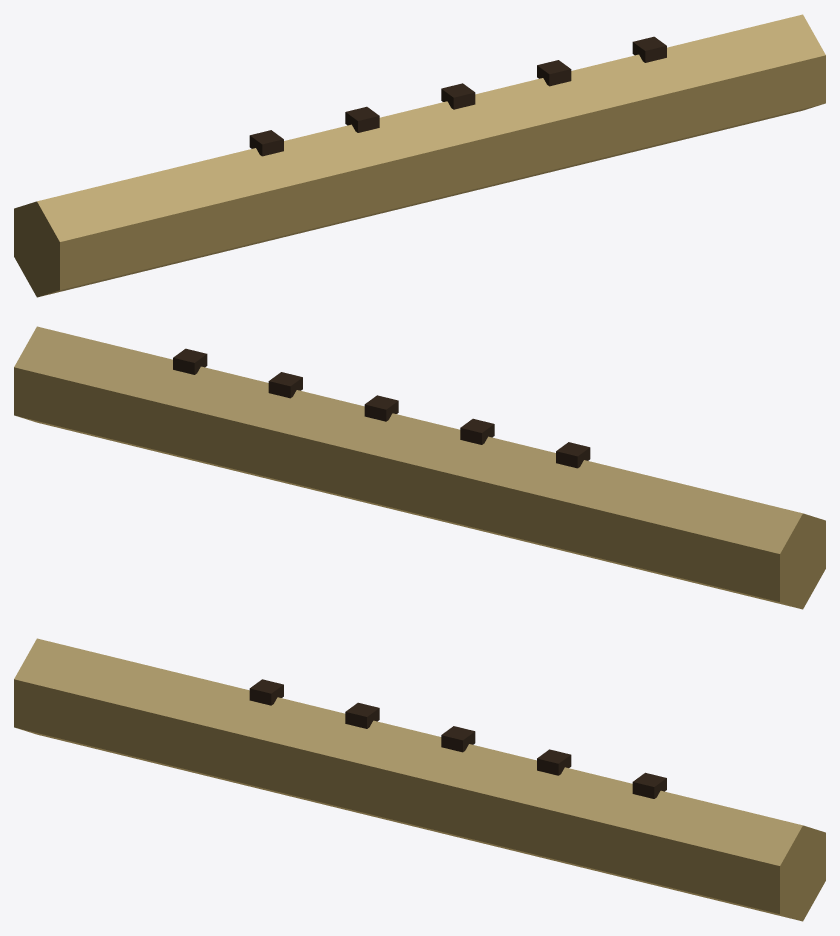
File: flute.glb
3 renders of one model, top to bottom at view 1: azimuth 30°, elevation 25°; view 2: azimuth 150°, elevation 25°; view 3: azimuth 330°, elevation 25°, orthographic.
Parts seen in each view (by area): view 1: base; view 2: base; view 3: base.
Part boxes in pixels (box(x1,y1,x2,y2)): base: box(14, 14, 825, 297); base: box(14, 326, 825, 609); base: box(14, 638, 825, 921).
Size of the model in its own units: 0.2 by 0.026 by 0.0208.
